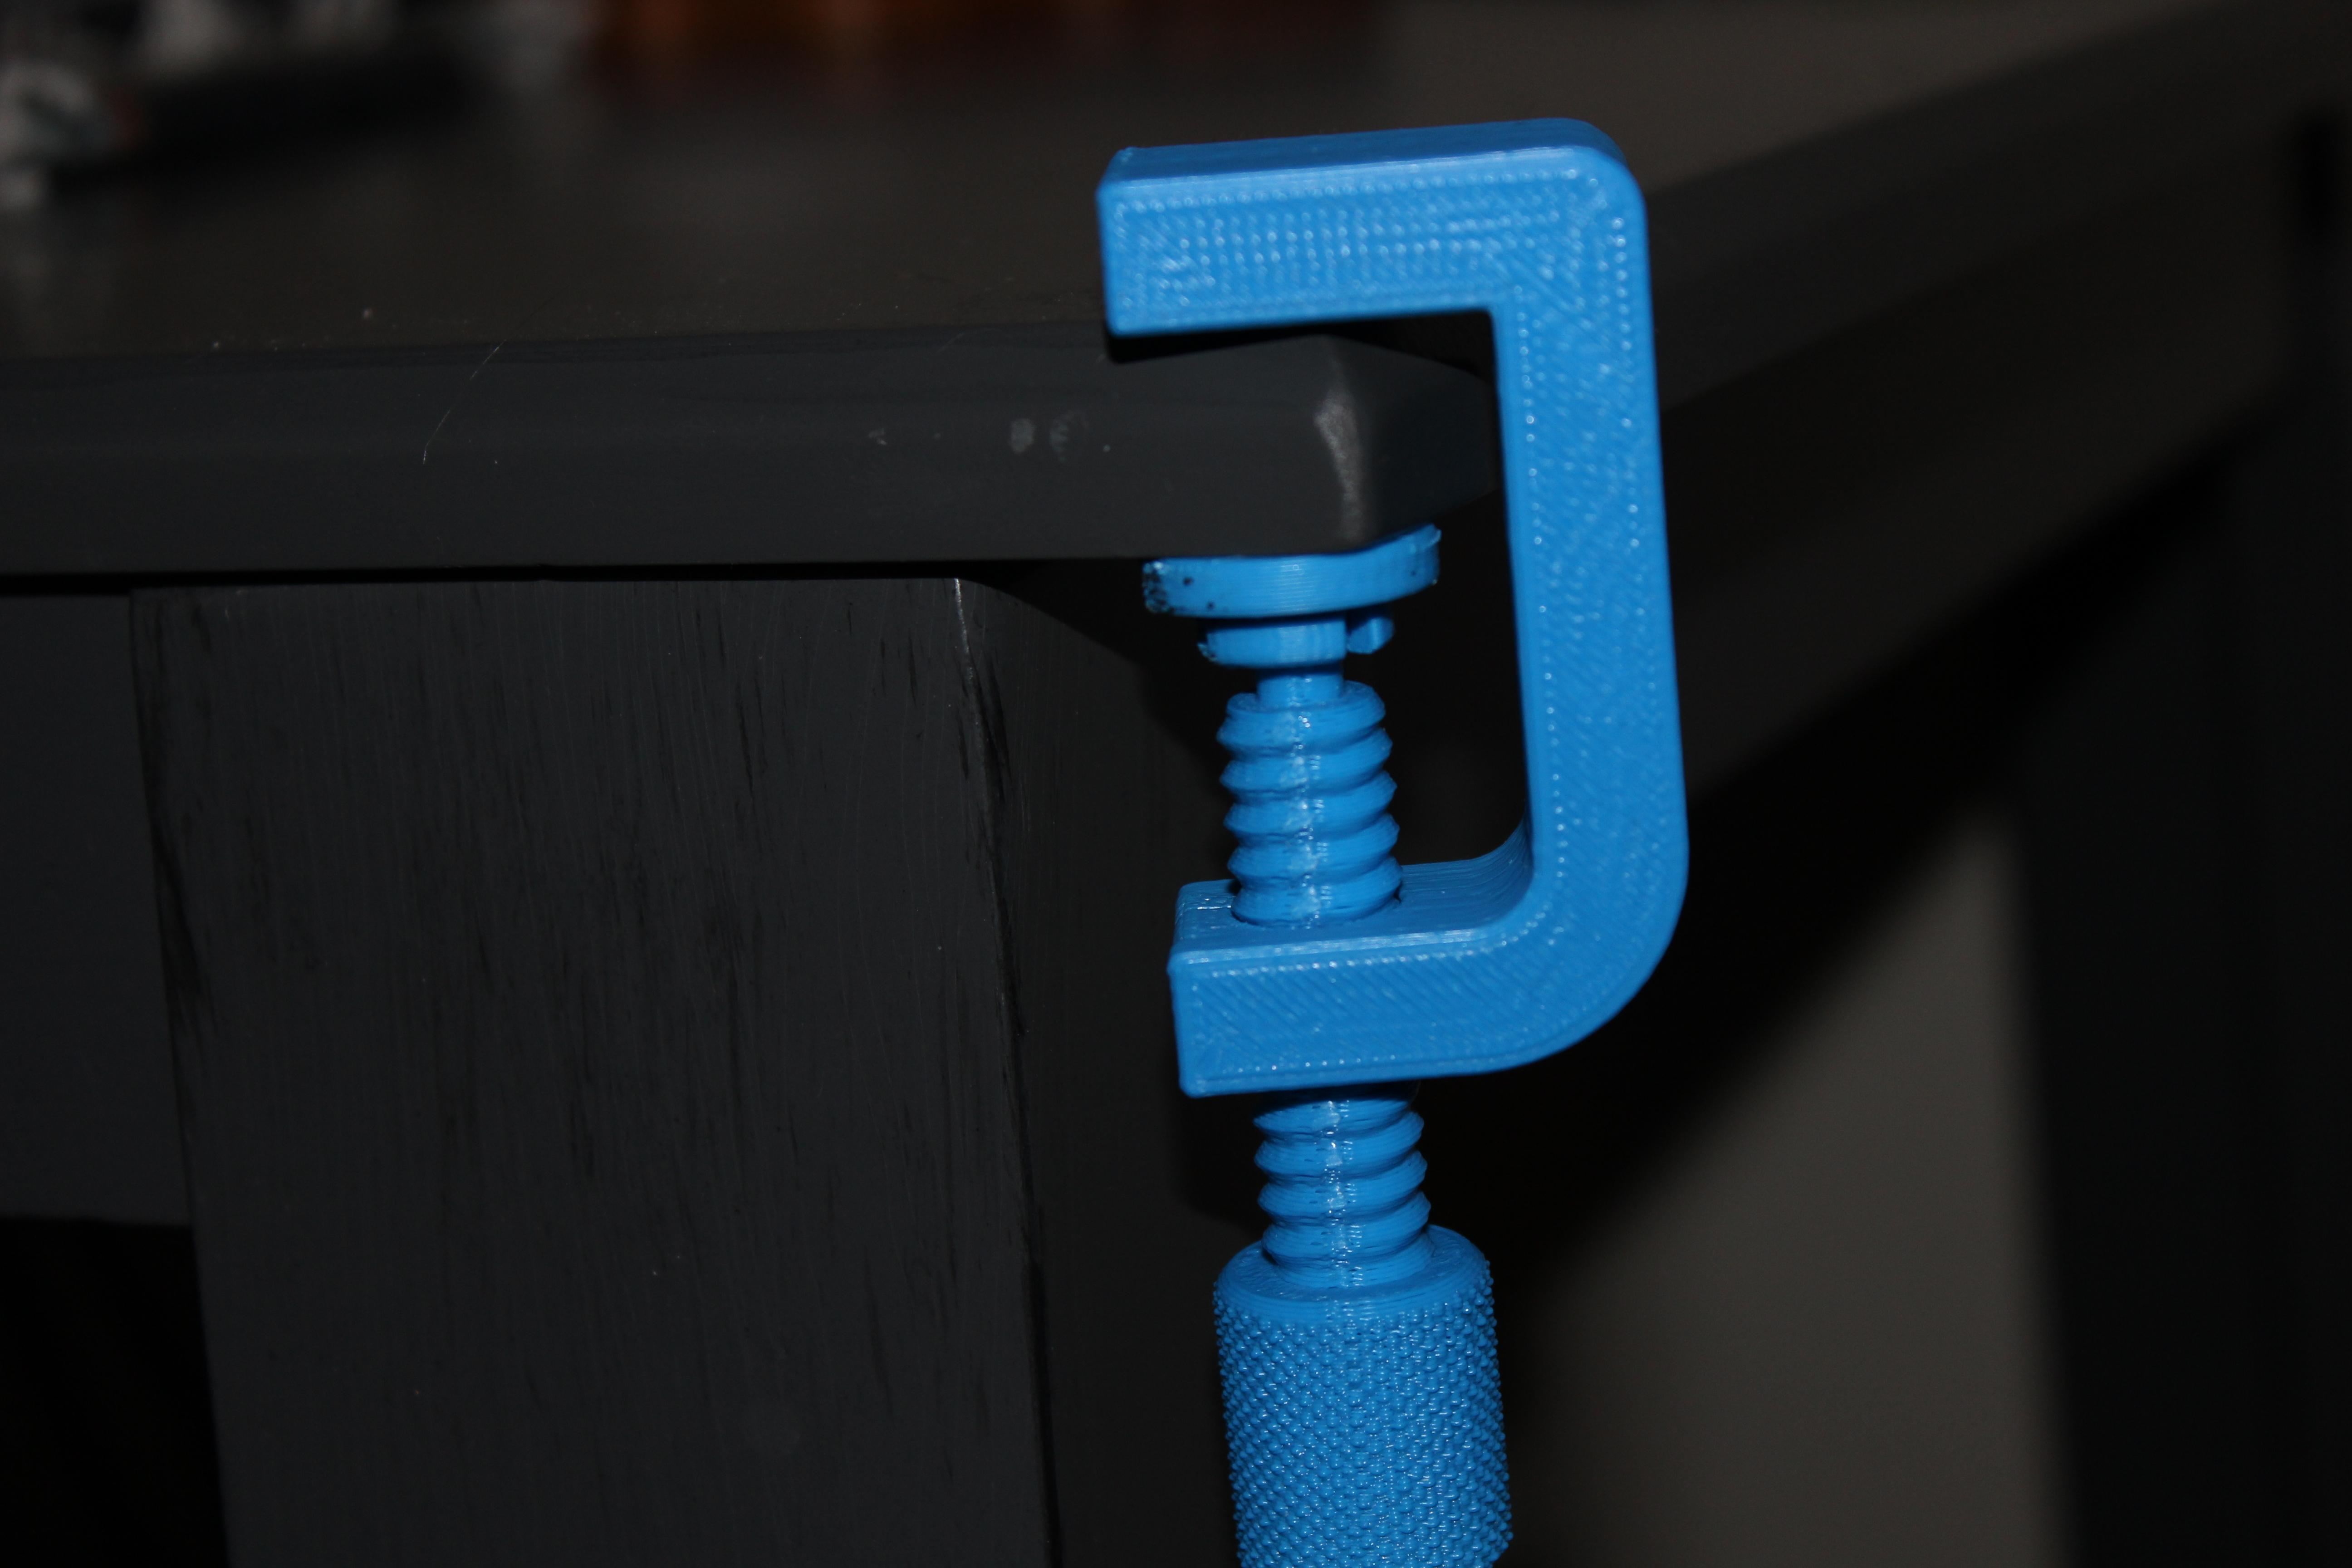gClamp: (1029, 102, 1760, 1568)
